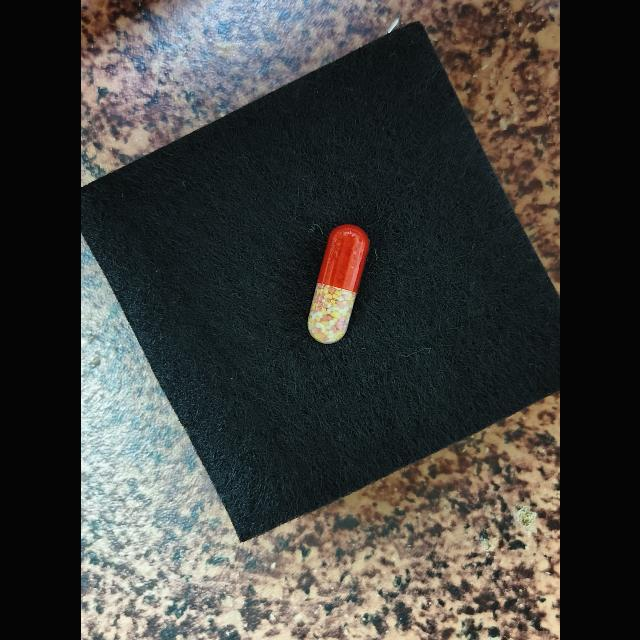Intact Capsule: (307, 225, 369, 344)
